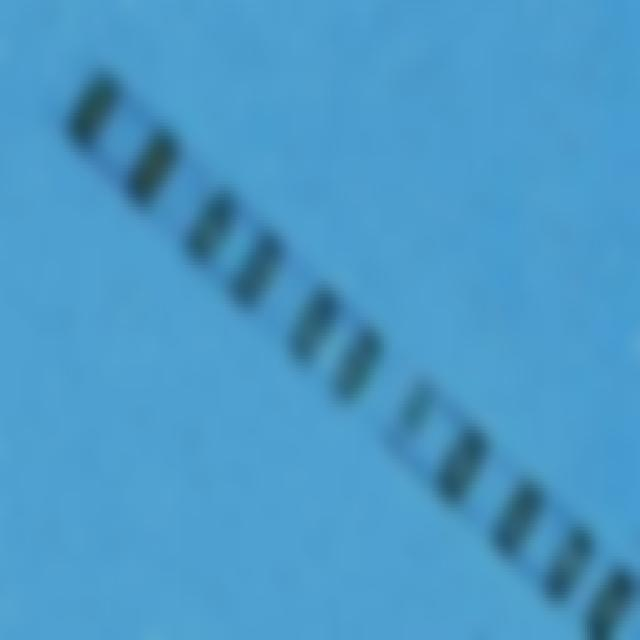Skeletonema: (43, 46, 637, 640)
